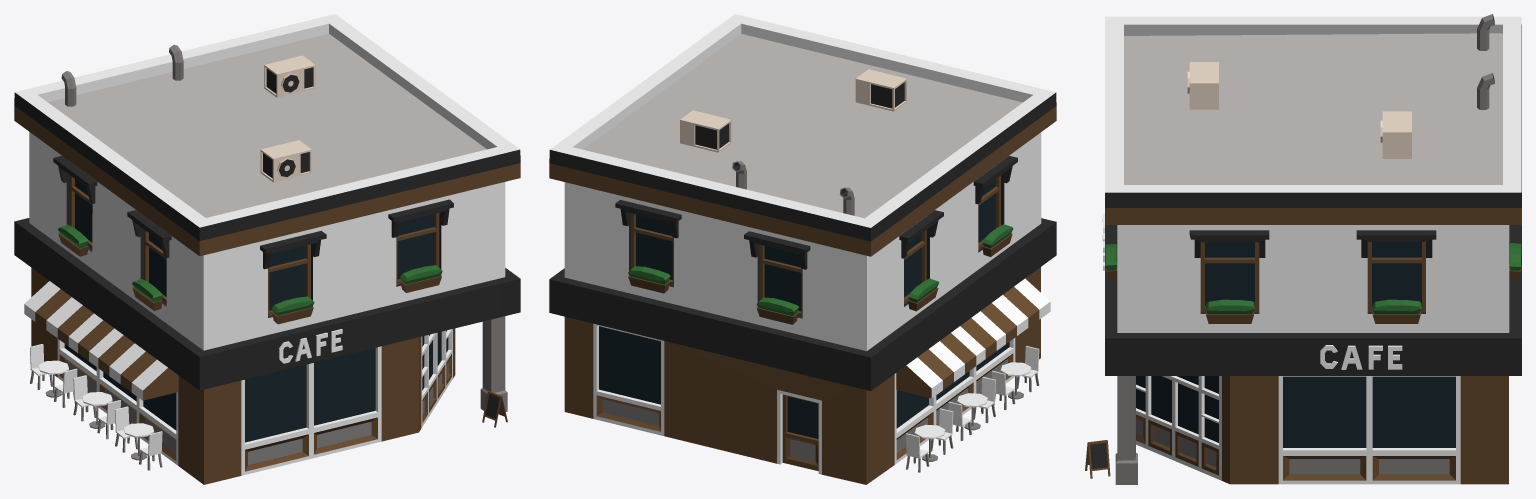
Rendered from building-cafe.glb.
The picture shows the model from 3 angles, left to right: view 1: azimuth 30°, elevation 25°; view 2: azimuth 150°, elevation 25°; view 3: azimuth 270°, elevation 25°; orthographic projection. The views are drawn at different scales.
Parts seen in each view (by area): view 1: building-cafe; view 2: building-cafe; view 3: building-cafe.
Boxes of the visible parts, x1,y1,x2,y2 form: building-cafe: (14, 14, 520, 484); building-cafe: (549, 14, 1056, 484); building-cafe: (1085, 14, 1521, 484).
Size of the model in its own units: 10.85 by 8.49 by 10.48.
Materials: 1 (1 with a texture image).
